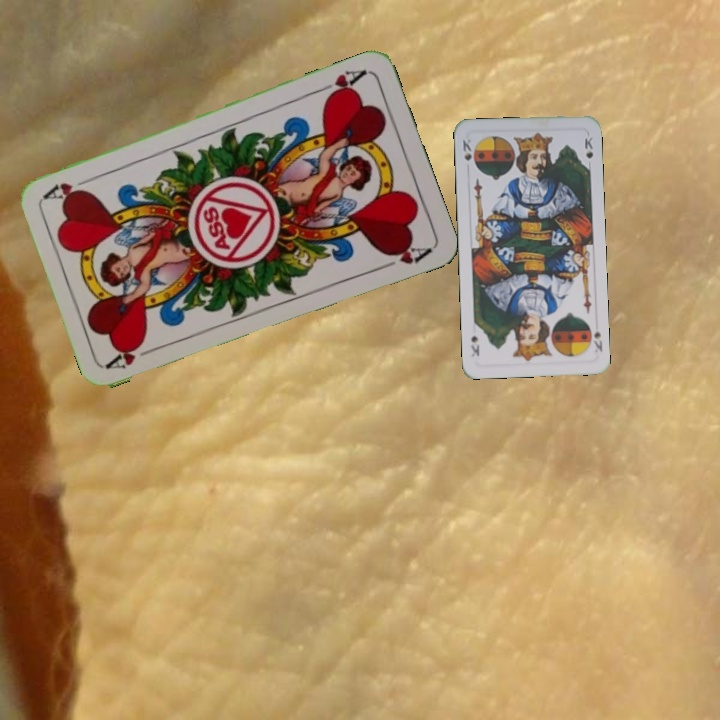HA: (313, 65, 369, 102), (104, 338, 161, 372)
SK: (589, 318, 605, 355), (459, 135, 474, 163)
